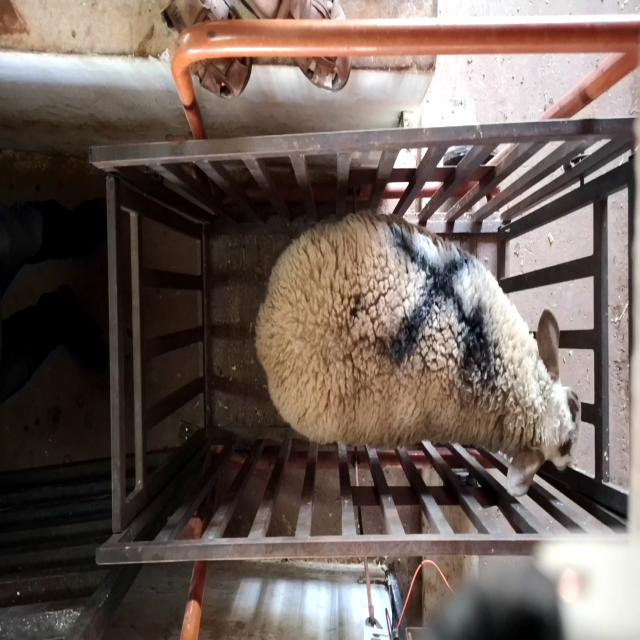sheep: (255, 208, 583, 499)
